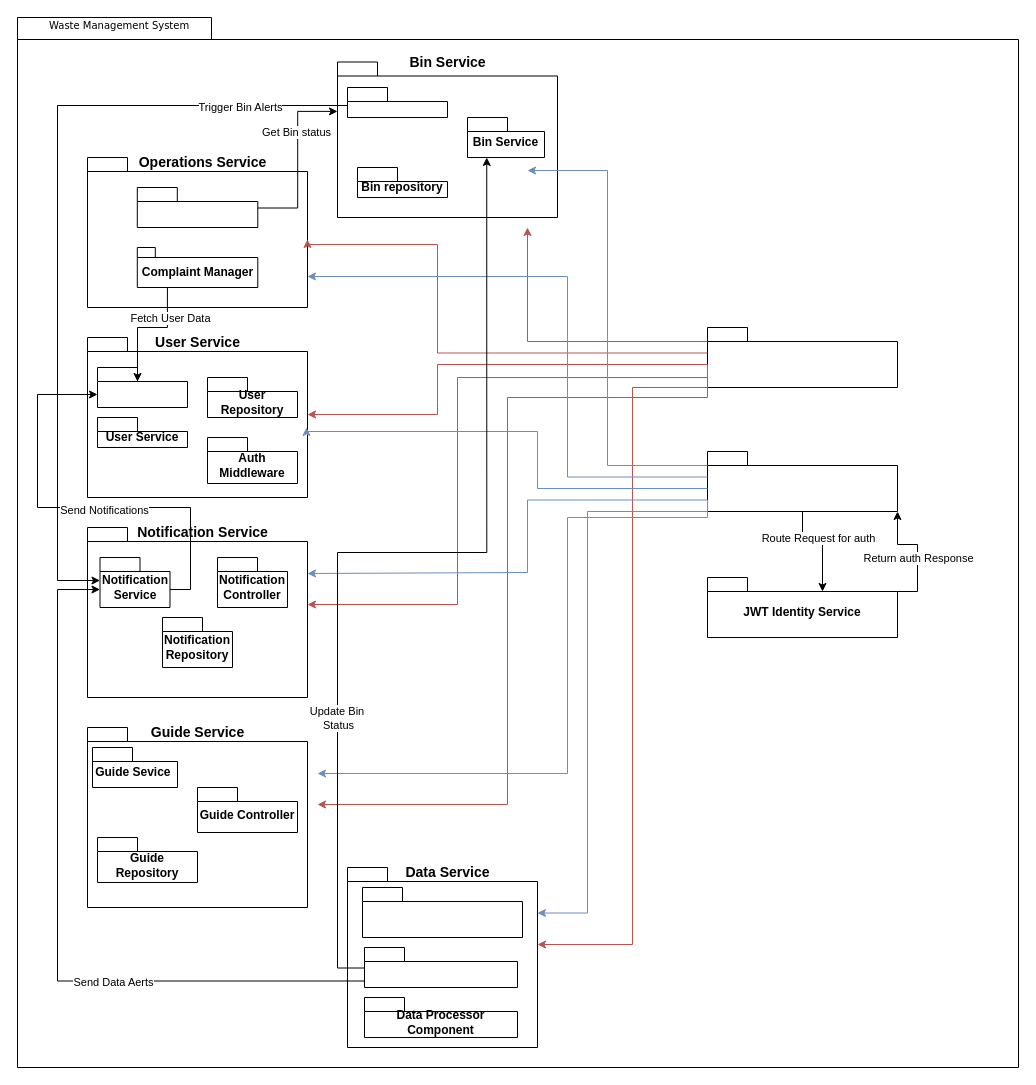
Image size: 1036x1085. Some labels were removed from this diagram. The shapes that lost their labels are listed below. From the top down, each one's centre as x and y in pixels, then its label:
At point (397, 102): "Bin Controller".
At point (197, 207): "Schedule Manager".
At point (802, 357): "Service Registry".
At point (142, 387): "User Controller".
At point (802, 481): "API Gateway".
At point (442, 912): "IoT Device handler Component".
At point (441, 967): "Data Ingestion Service Component".
